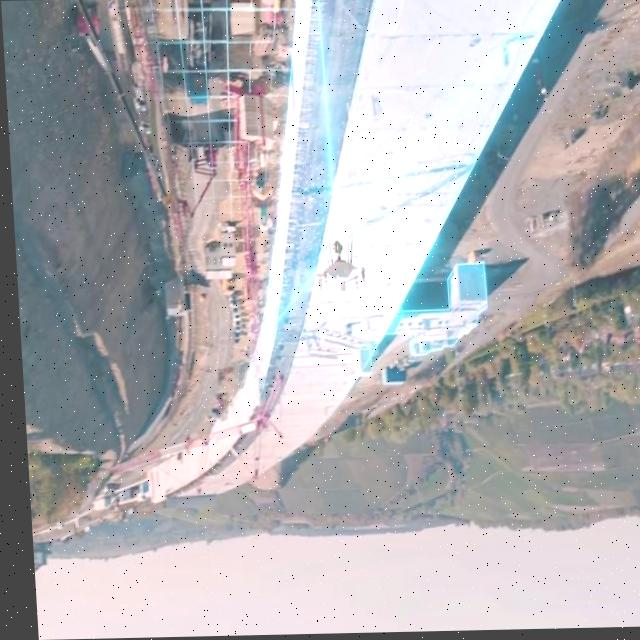drone: (308, 234, 365, 299)
